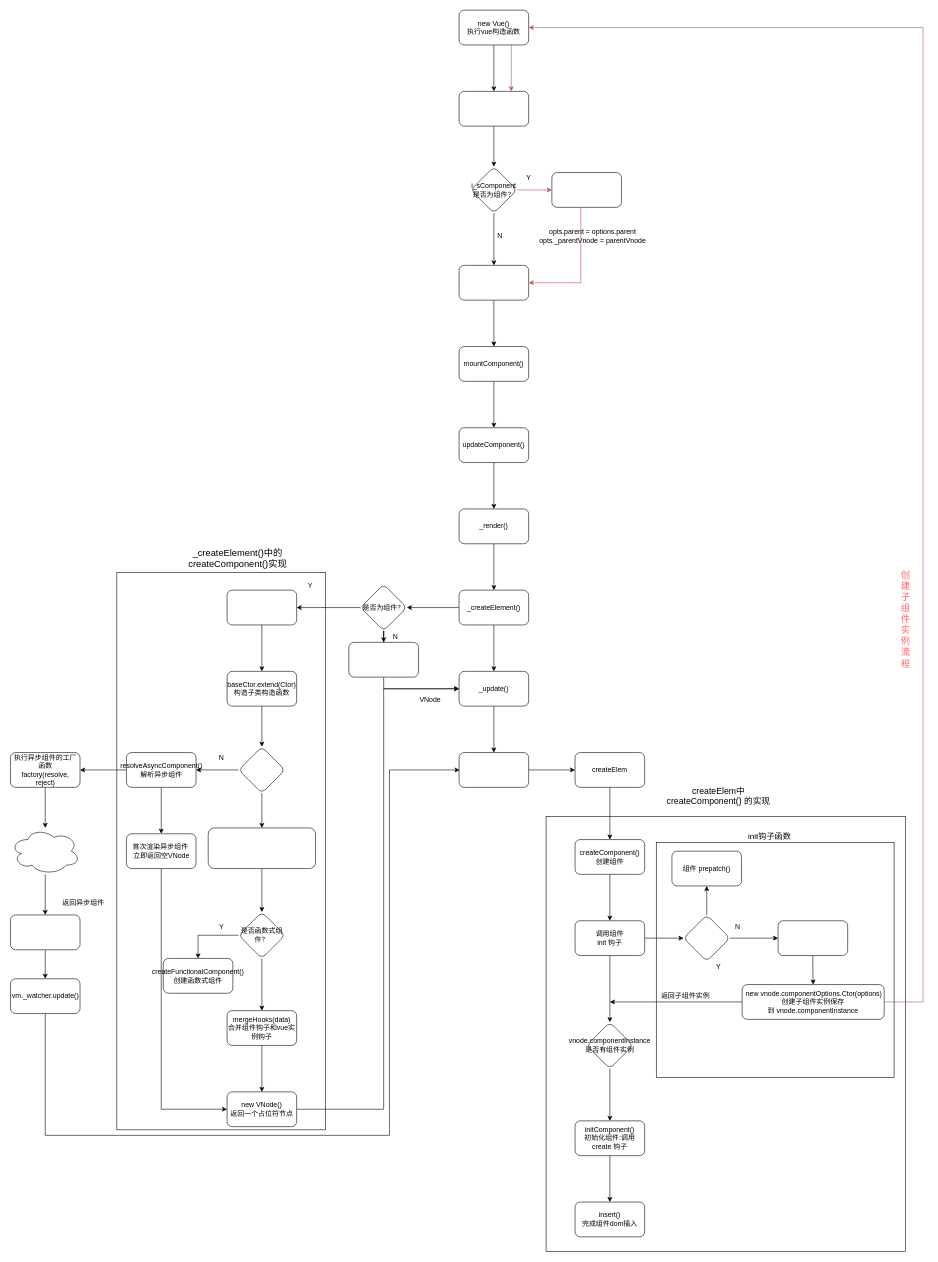
The diagram is 938 pixels wide and 1262 high, and some of its shapes have lost their labels. The centre of each missing label's shape, as x and y in pixels:
_init() 初始化: (x=493, y=108)
createComponent() 创建一个组件节点，返回Vnode节点: (x=261, y=607)
createComponentInstanceForVnode() 创建子组件实例 设置 isMount = true: (x=812, y=938)
initInternalComponent() 初始化组件options 记录组件父节点: (x=586, y=189)
keepAlive组件？: (x=706, y=937)
patch(): (x=493, y=769)
resolveConstructorOptions(Ctor) 解析构造函数选项，以防全局mixin在组件构造函数创建后被应用: (x=262, y=848)
vm.mount() 挂载组件: (x=493, y=282)
创建VNode: (x=383, y=659)
异步组件: (x=45, y=850)
成功加载异步组件后强制更新视图 vm.$forceUpdate(): (x=45, y=932)
组件实例有cid？: (x=261, y=769)
